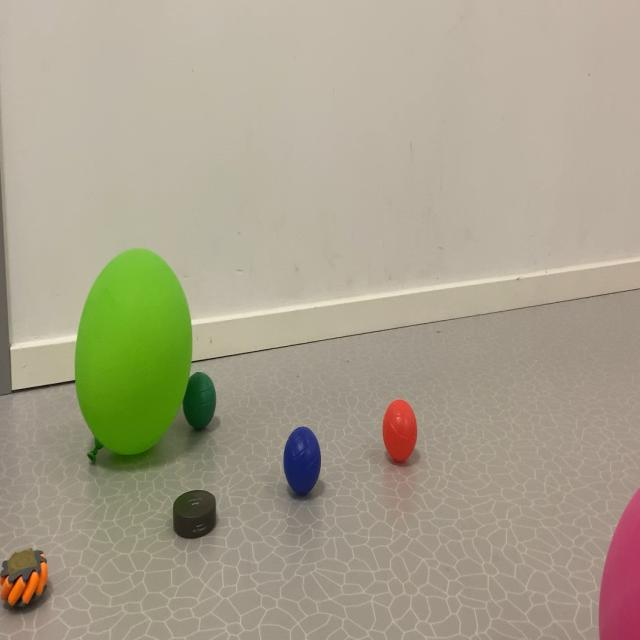green ball: (276, 389, 326, 536)
red ball: (360, 384, 437, 521), (173, 335, 249, 455)
